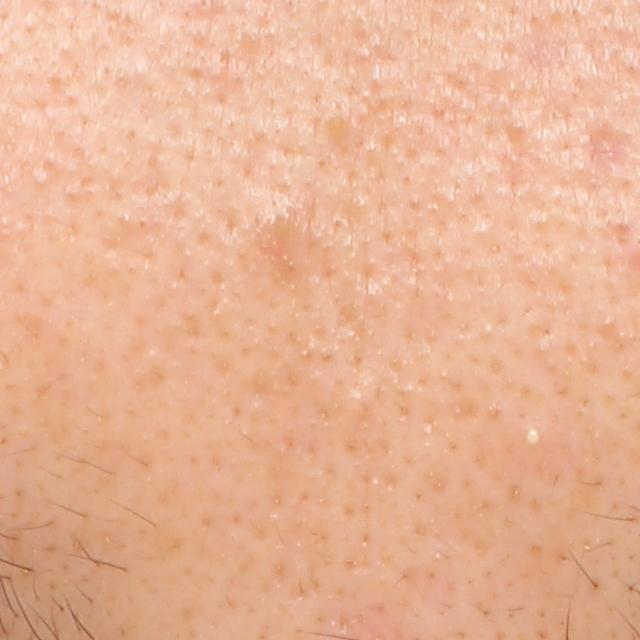atrophic_scar: (586, 122, 632, 176)
pustule: (510, 419, 553, 458)
